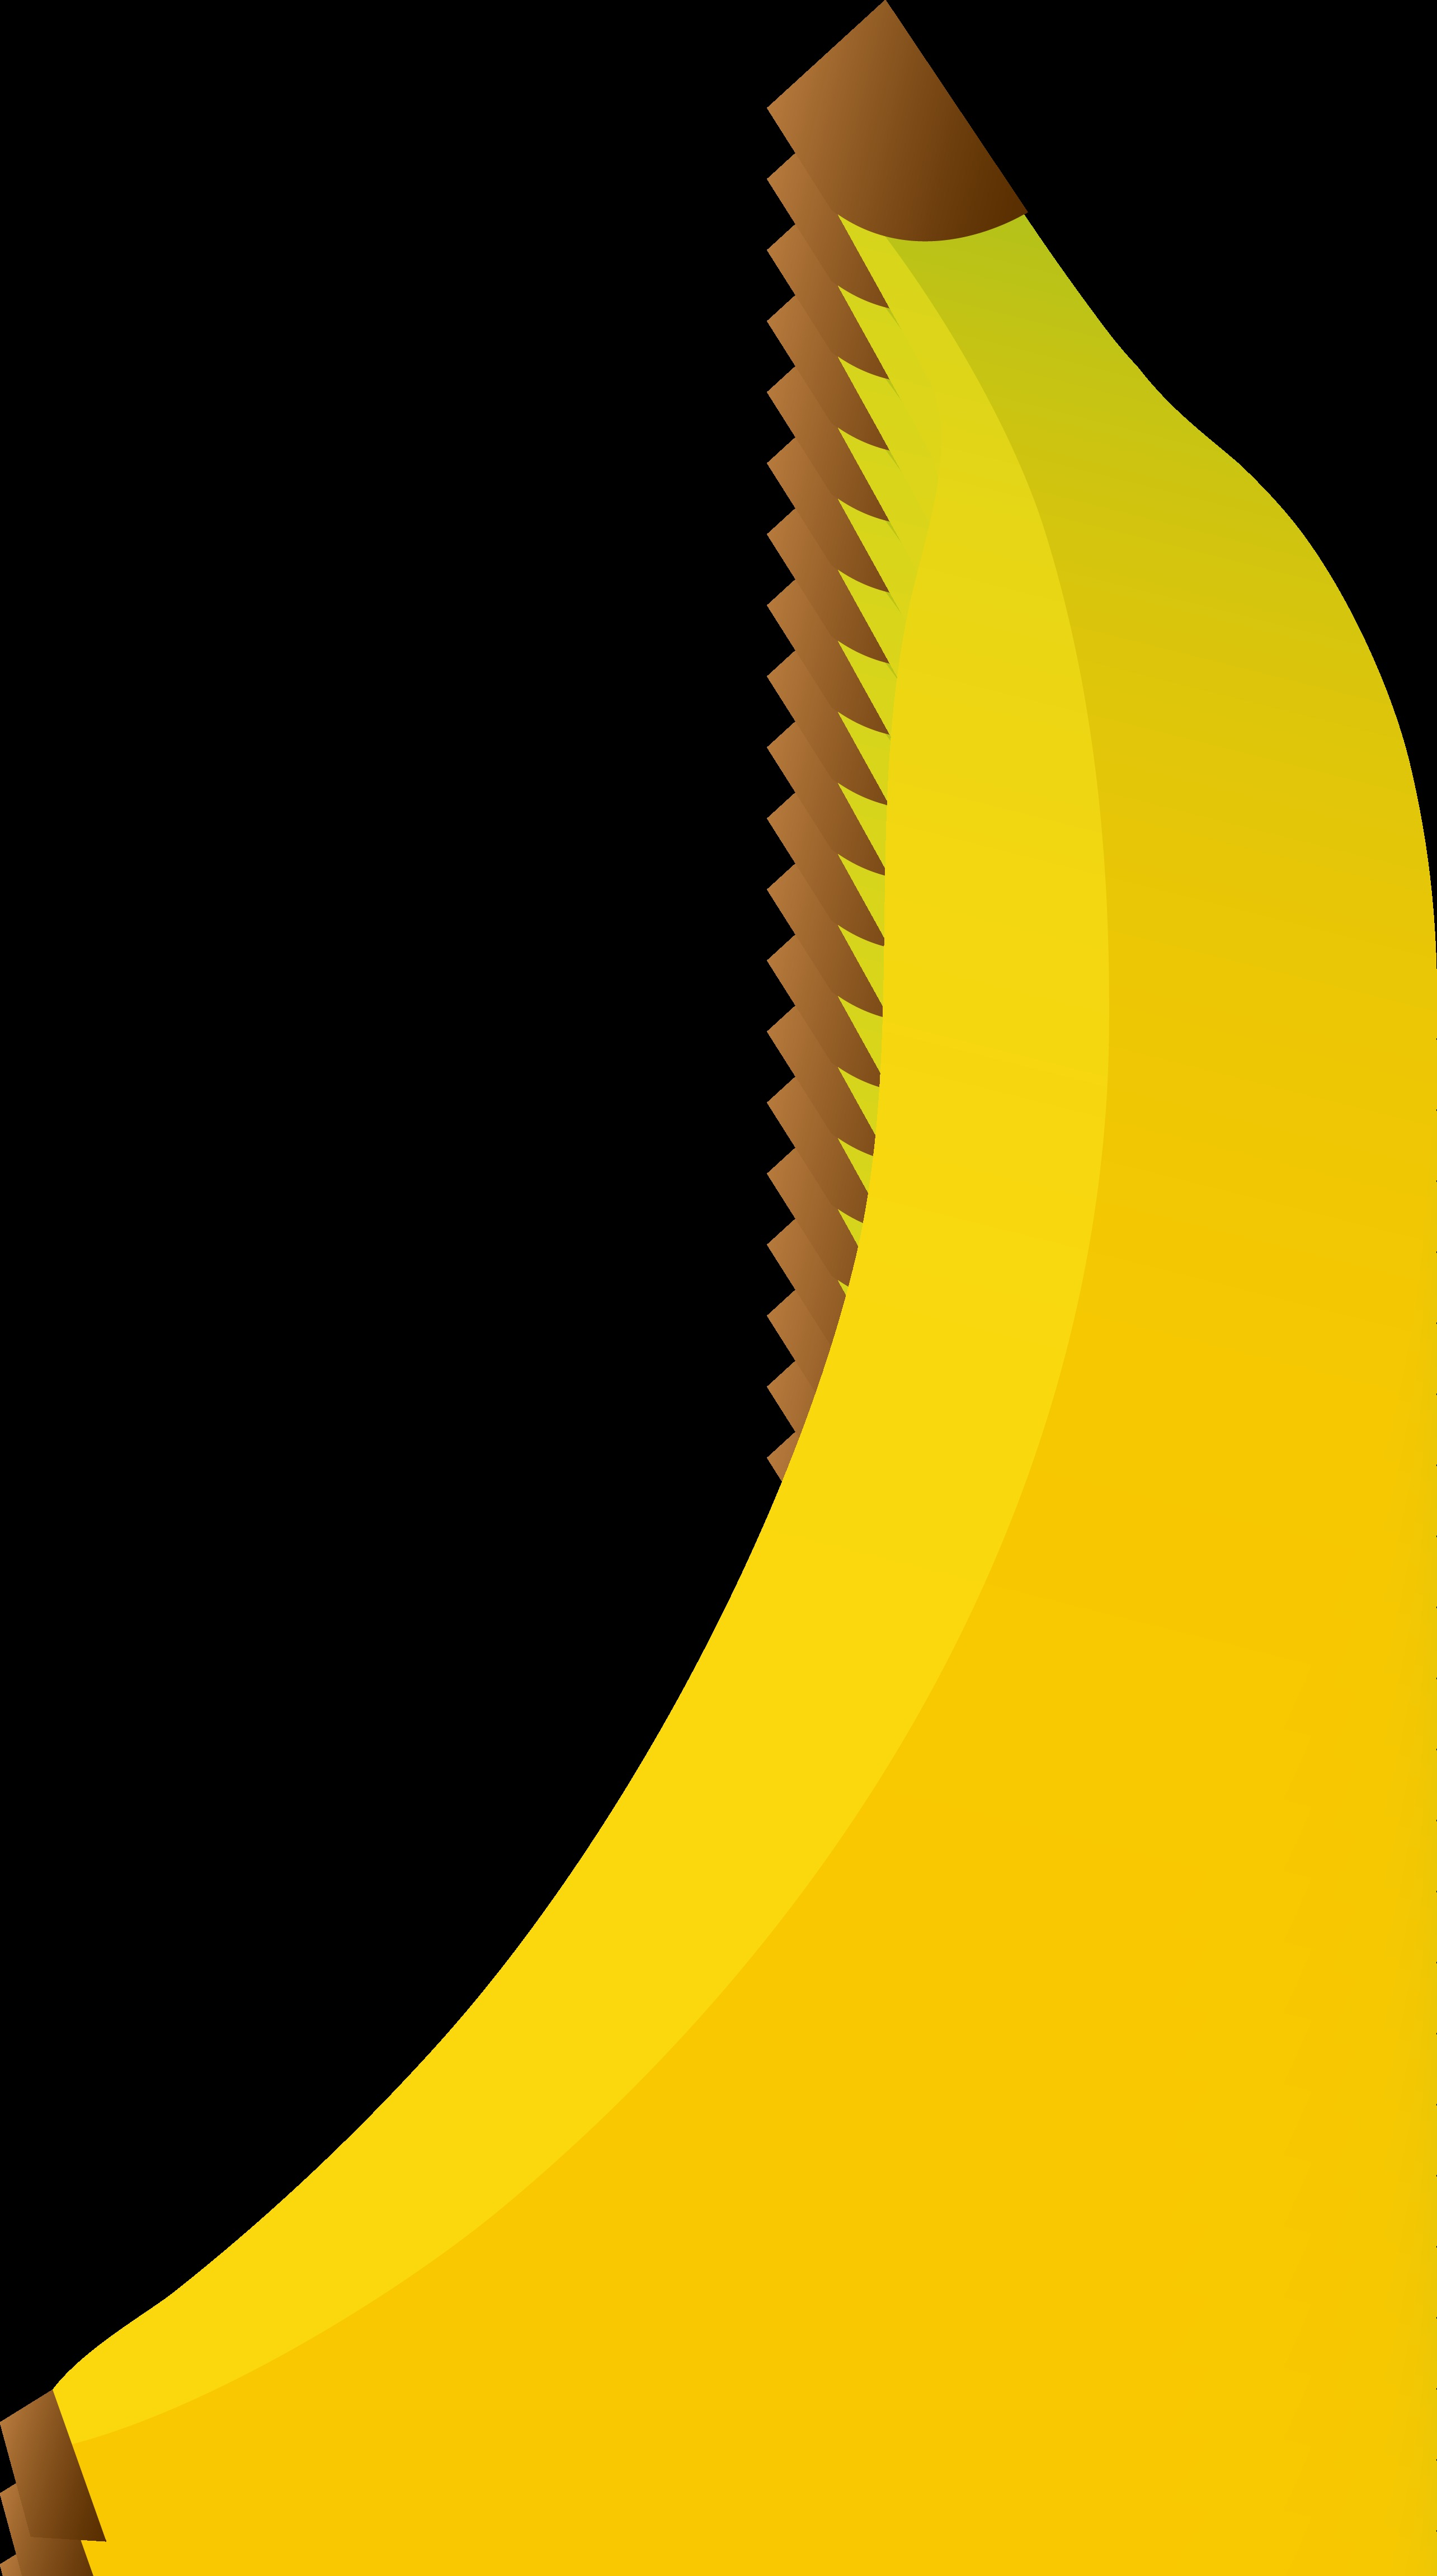banana: (5, 350, 1379, 2526)
